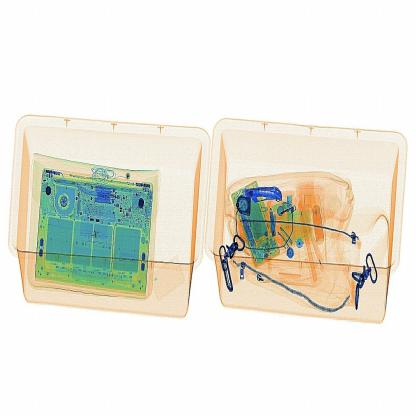knife: (239, 181, 288, 213)
